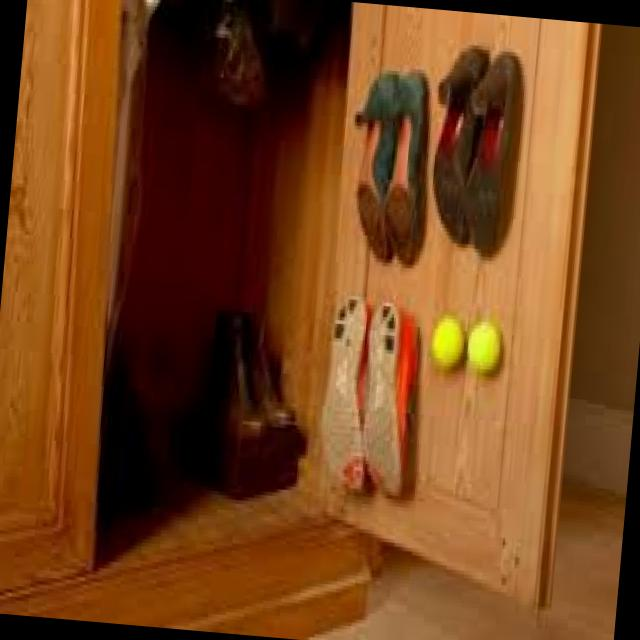Tennis Ball: (466, 318, 500, 376), (430, 314, 465, 370)
